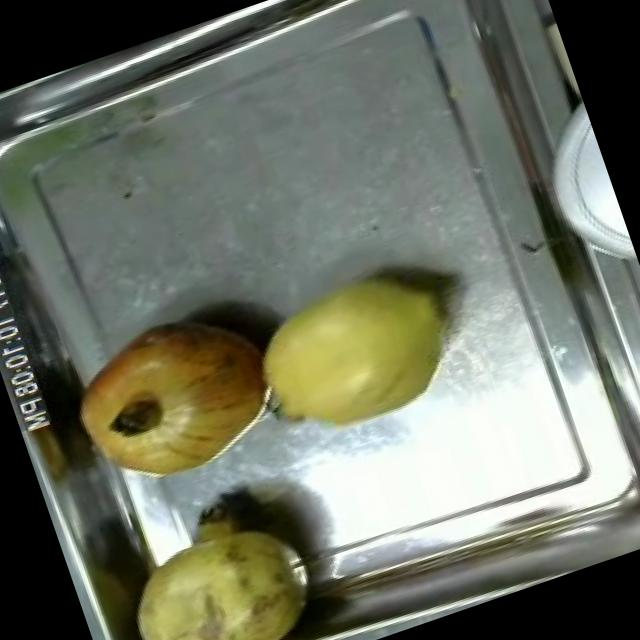fruit: (224, 242, 488, 462), (54, 292, 300, 506), (95, 470, 343, 640)
